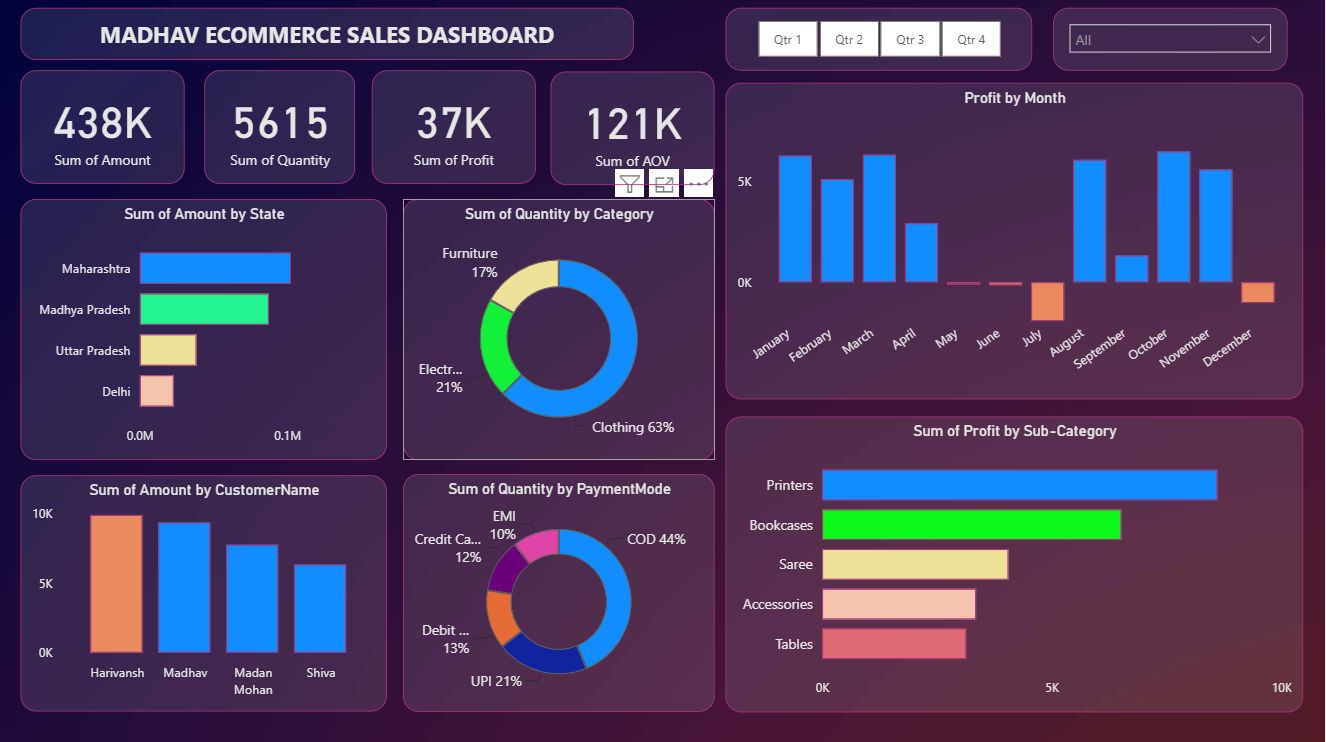

This screenshot's page, from the dashboard's own definition file:
{"tool":"powerbi","page":{"name":"Page 1","canvas":[1280,720],"ordinal":0},"visuals":[{"type":"columnChart","title":"Profit by Month","fields":{"Y":["Sum(Details.Profit)"],"Category":["Orders.Order Date.Variation.Date Hierarchy.Month"]},"box":[702.1,80.8,557.4,305.2],"z":0},{"type":"barChart","fields":{"Category":["Details.Sub-Category"],"Y":["Sum(Details.Profit)"]},"box":[702.5,402.4,557.4,285.3],"z":1000},{"type":"donutChart","fields":{"Category":["Details.Category"],"Y":["Sum(Details.Quantity)"]},"box":[390.9,193,300.4,252.1],"z":2000},{"type":"donutChart","fields":{"Y":["Sum(Details.Quantity)"],"Category":["Details.PaymentMode"]},"box":[390.9,458.4,300.4,229.2],"z":3000},{"type":"card","fields":{"Values":["Sum(Details.Amount)"]},"box":[21.7,68.8,158,109.8],"z":4000},{"type":"barChart","fields":{"Y":["Sum(Details.Amount)"],"Category":["Orders.State"]},"box":[21.7,193,353.5,252.1],"z":8000},{"type":"columnChart","fields":{"Category":["Orders.CustomerName"],"Y":["Sum(Details.Amount)"]},"box":[21.7,459.7,353.5,228],"z":9000},{"type":"slicer","fields":{"Values":["Orders.Order Date.Variation.Date Hierarchy.Quarter"]},"box":[702.6,8.7,295.8,60.6],"z":10000},{"type":"slicer","fields":{"Values":["Orders.State"]},"box":[1018.6,8.7,226.5,60.6],"z":11000},{"type":"textbox","box":[21.7,8.4,592.4,50.7],"z":12000},{"type":"card","fields":{"Values":["Sum(Details.Quantity)"]},"box":[199.1,68.8,146,109.8],"z":12001},{"type":"card","fields":{"Values":["Sum(Details.Profit)"]},"box":[360.7,68.8,158,109.8],"z":12002},{"type":"card","fields":{"Values":["Sum(Details.AOV)"]},"box":[533.2,70,158,109.8],"z":12003}]}

Visuals, with their boxes in screenshot pixels (x1, y1, x2, y2), scaled from the page's 1280x720 canvas onto the 1326x742 screenshot:
"Profit by Month" columnChart: bbox=[727, 83, 1305, 398]
barChart - Details.Sub-Category x Sum(Details.Profit): bbox=[728, 415, 1305, 709]
donutChart - Details.Category x Sum(Details.Quantity): bbox=[405, 199, 716, 459]
donutChart - Sum(Details.Quantity) x Details.PaymentMode: bbox=[405, 472, 716, 709]
card - Sum(Details.Amount): bbox=[22, 71, 186, 184]
barChart - Sum(Details.Amount) x Orders.State: bbox=[22, 199, 389, 459]
columnChart - Orders.CustomerName x Sum(Details.Amount): bbox=[22, 474, 389, 709]
slicer - Orders.Order Date.Variation.Date Hierarchy.Quarter: bbox=[728, 9, 1034, 71]
slicer - Orders.State: bbox=[1055, 9, 1290, 71]
textbox: bbox=[22, 9, 636, 61]
card - Sum(Details.Quantity): bbox=[206, 71, 358, 184]
card - Sum(Details.Profit): bbox=[374, 71, 537, 184]
card - Sum(Details.AOV): bbox=[552, 72, 716, 185]
